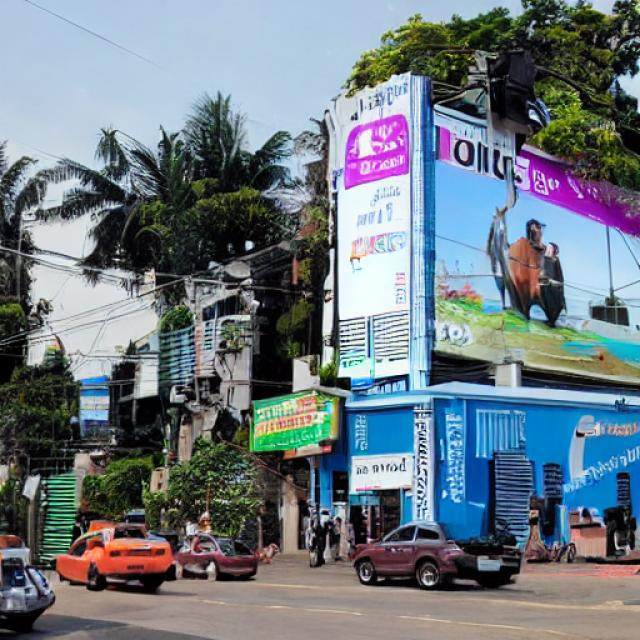Billboard: (431, 109, 640, 388)
